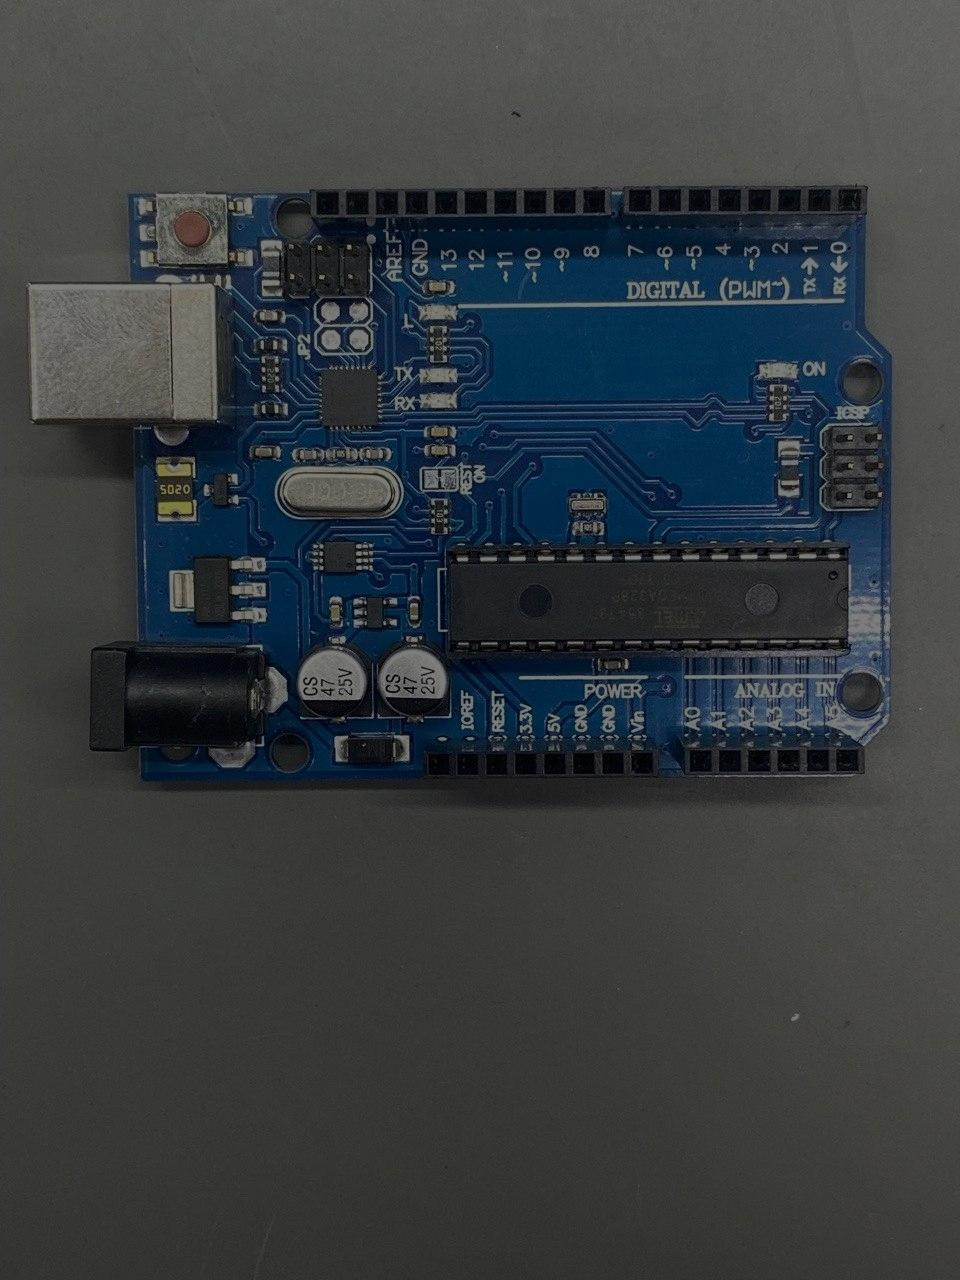ATmega328 chip: (448, 545, 850, 653)
Arduino board: (26, 186, 891, 780)
USB: (27, 282, 236, 426)
capacitor: (377, 634, 451, 717), (297, 642, 374, 719)
pins: (308, 187, 612, 232), (617, 185, 867, 226), (423, 737, 660, 779), (673, 733, 866, 777)
resistor: (768, 384, 788, 422), (430, 497, 448, 535), (429, 326, 447, 363), (262, 356, 279, 393)
